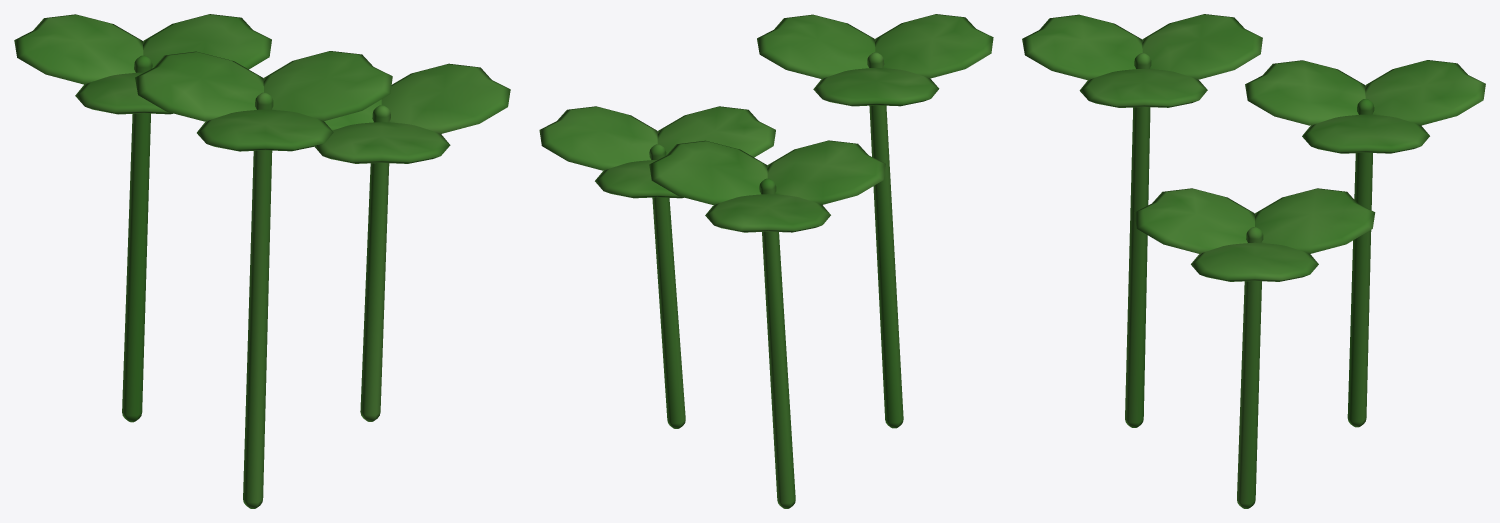
Rendered from Clover.glb.
3 views of the same model, side by side, from view 1: azimuth 30°, elevation 25°; view 2: azimuth 150°, elevation 25°; view 3: azimuth 270°, elevation 25° (orthographic). The views are drawn at different scales.
Visible parts, largest first — view 1: CloverMesh; view 2: CloverMesh; view 3: CloverMesh.
Part boxes in pixels (box(x1,y1,x2,y2)): CloverMesh: box(14, 14, 510, 508); CloverMesh: box(539, 14, 993, 508); CloverMesh: box(1022, 14, 1485, 508).
Size of the model in its own units: 0.0973 by 0.0989 by 0.1084.
